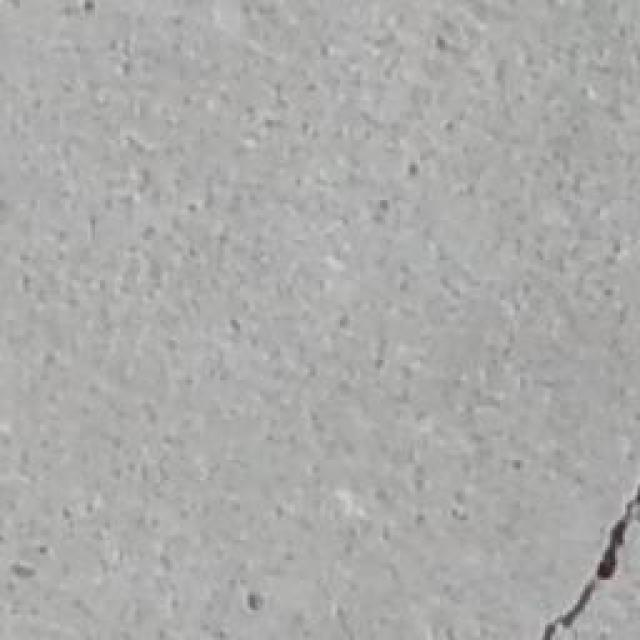concrete-crack: (545, 450, 640, 640)
